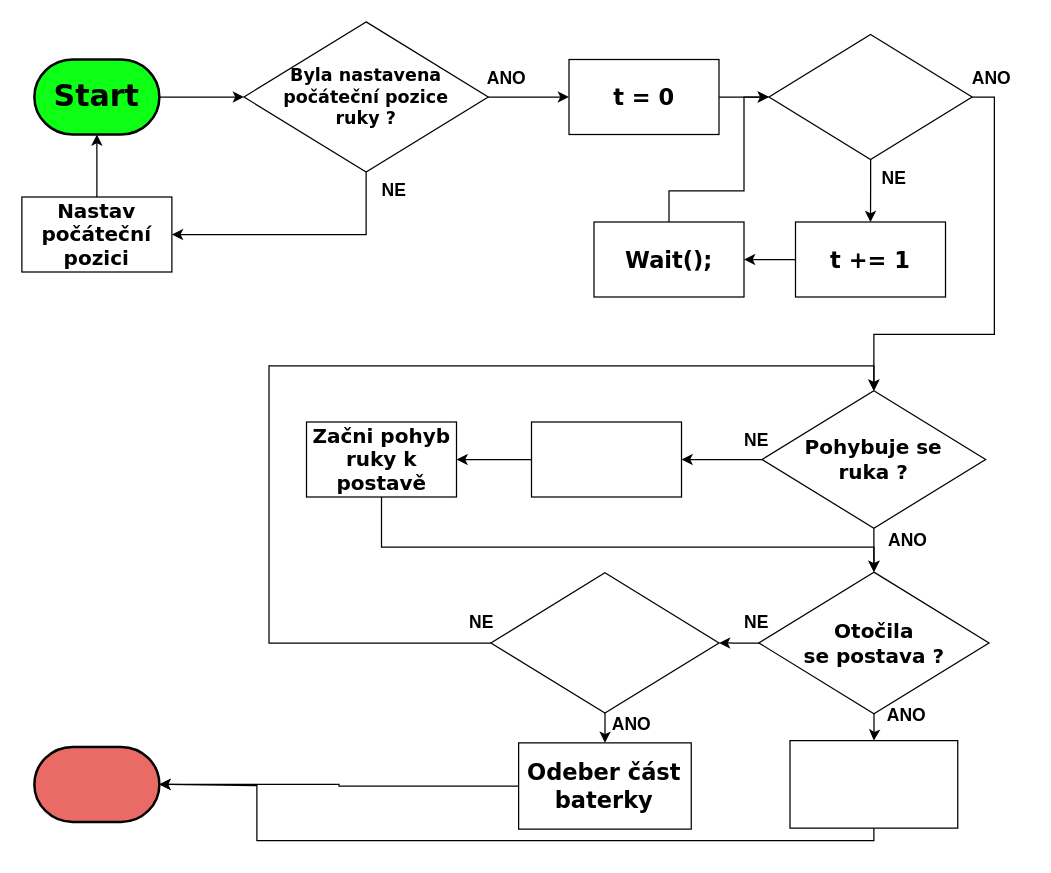
Some shapes in this 1051 by 873 pixel diagram are drawn without their labels. The shapes that lost their labels are listed below. From the top down, each one's centre as x and y in pixels, then its label:
(870,96): t >= rand(1,5)
(606,459): Nastav pozici ruky za hráče
(604,642): Dotkla se ruka postavy ?
(96,783): Konec
(873,783): Vymaž pozici ruky
